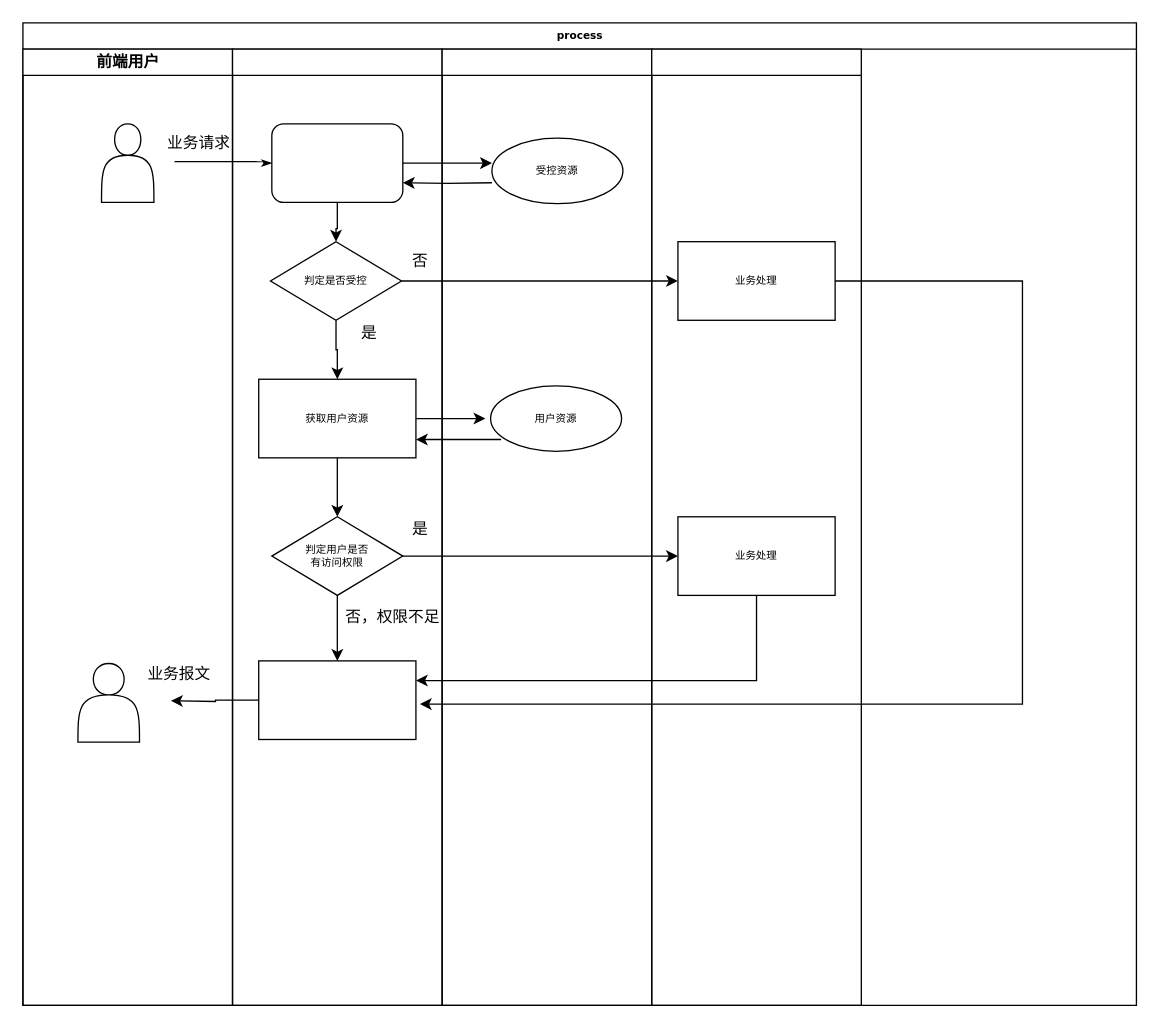
The diagram is 1159 pixels wide and 1028 high, and some of its shapes have lost their labels. Each missing label, with the box of its shape:
biz-service: (650, 48, 861, 1005)
Gateway: (231, 48, 442, 1005)
HTTP 响应: (257, 660, 416, 739)
system-service: (441, 48, 652, 1005)
获取受控资源: (271, 122, 403, 202)
